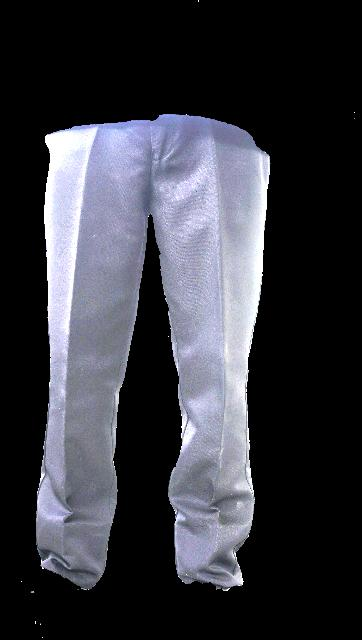blackpants: (36, 114, 270, 591)
